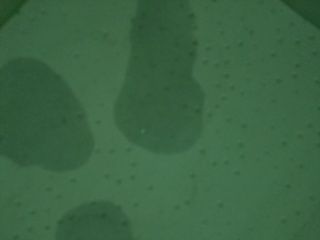Water_detected: (123, 2, 186, 133), (0, 80, 82, 158), (76, 203, 131, 240)
